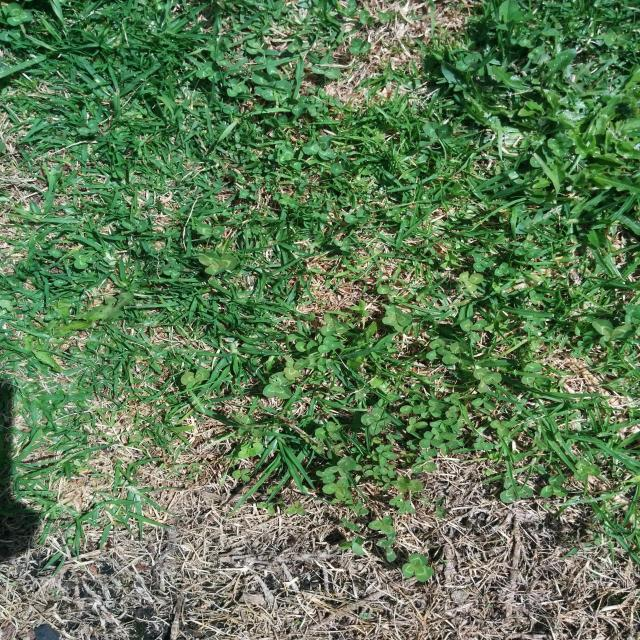Four Leaf Clover: (360, 407, 392, 435)
